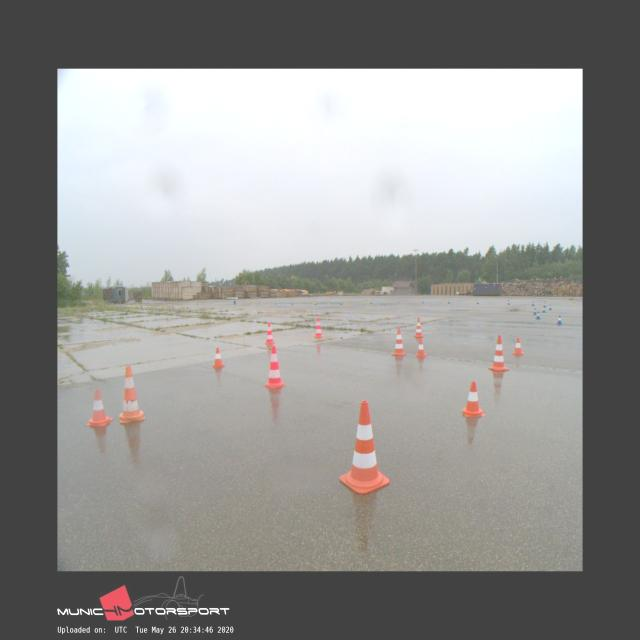blue_cone: (556, 316, 562, 324), (536, 312, 541, 320), (533, 308, 537, 314)
large_orange_cone: (340, 401, 389, 493), (118, 365, 144, 421), (264, 346, 286, 388), (488, 335, 508, 369), (392, 327, 406, 355), (264, 322, 274, 344), (314, 317, 324, 337), (414, 317, 424, 337)
orange_cone: (86, 388, 112, 424), (461, 381, 484, 416), (212, 348, 225, 368), (512, 336, 522, 354), (416, 340, 426, 356)
